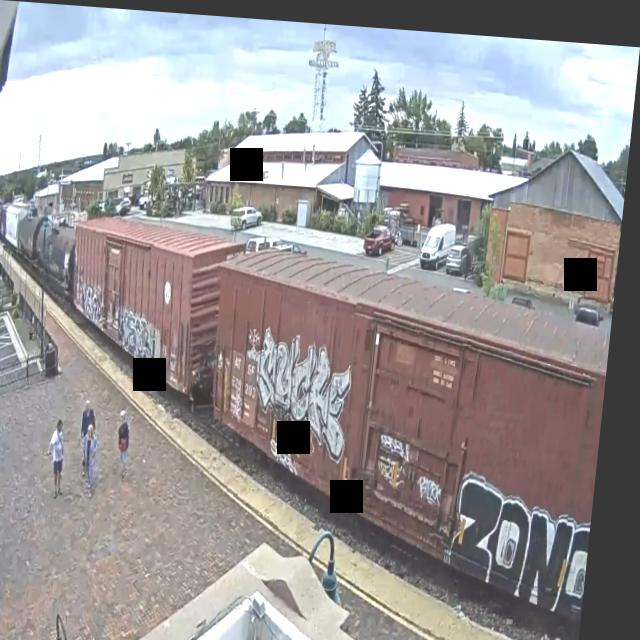boxcar: (190, 224, 623, 637), (66, 198, 248, 397)
